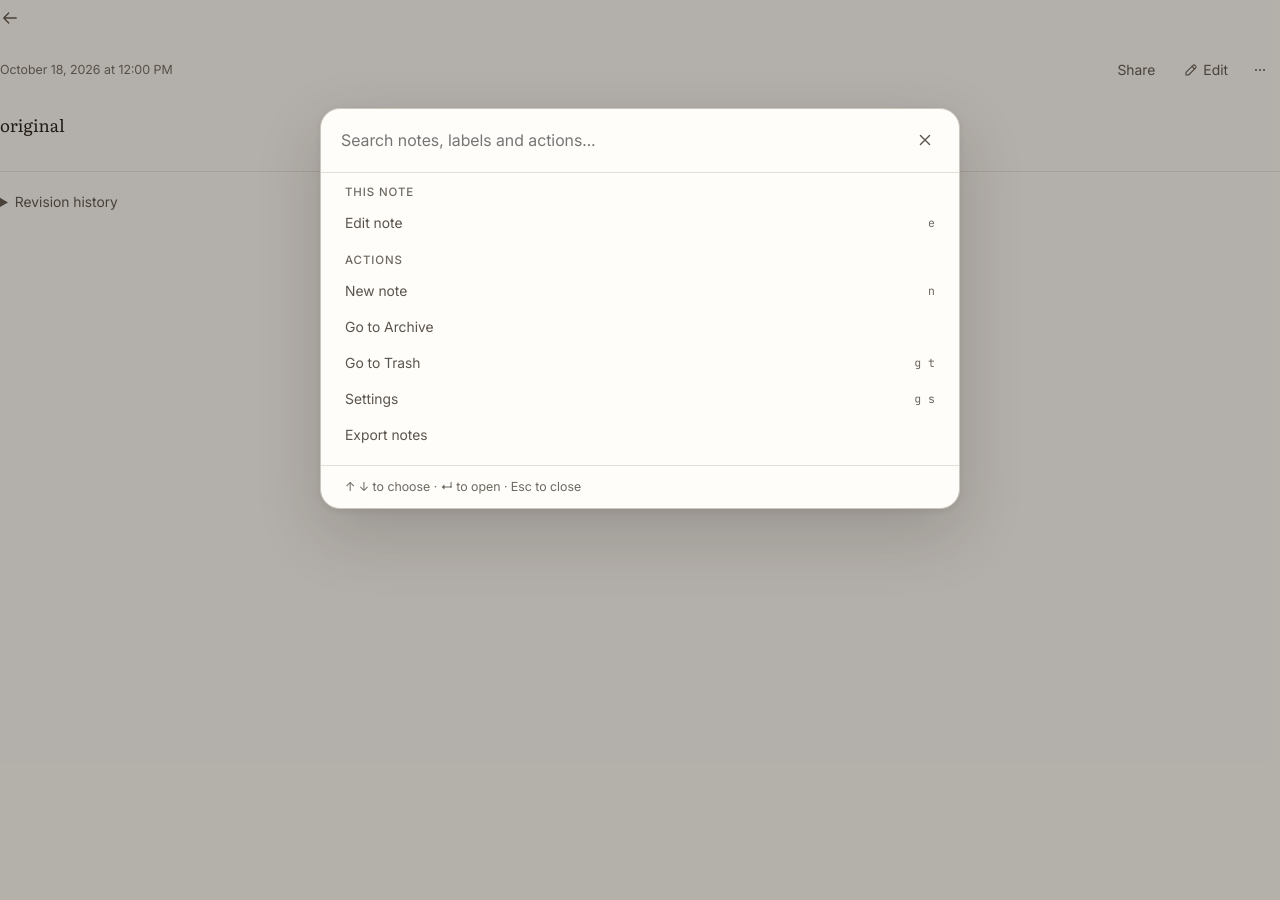
Test: palette Edit opens the note editor when Share is also available
Expected: the button "Share" is shown, [1106,52,1167,88]
What coordinates should you click on to do the following:
click the option "Edit note e"
I would click on:
 (374, 222)
Its box is [333,205,947,241].
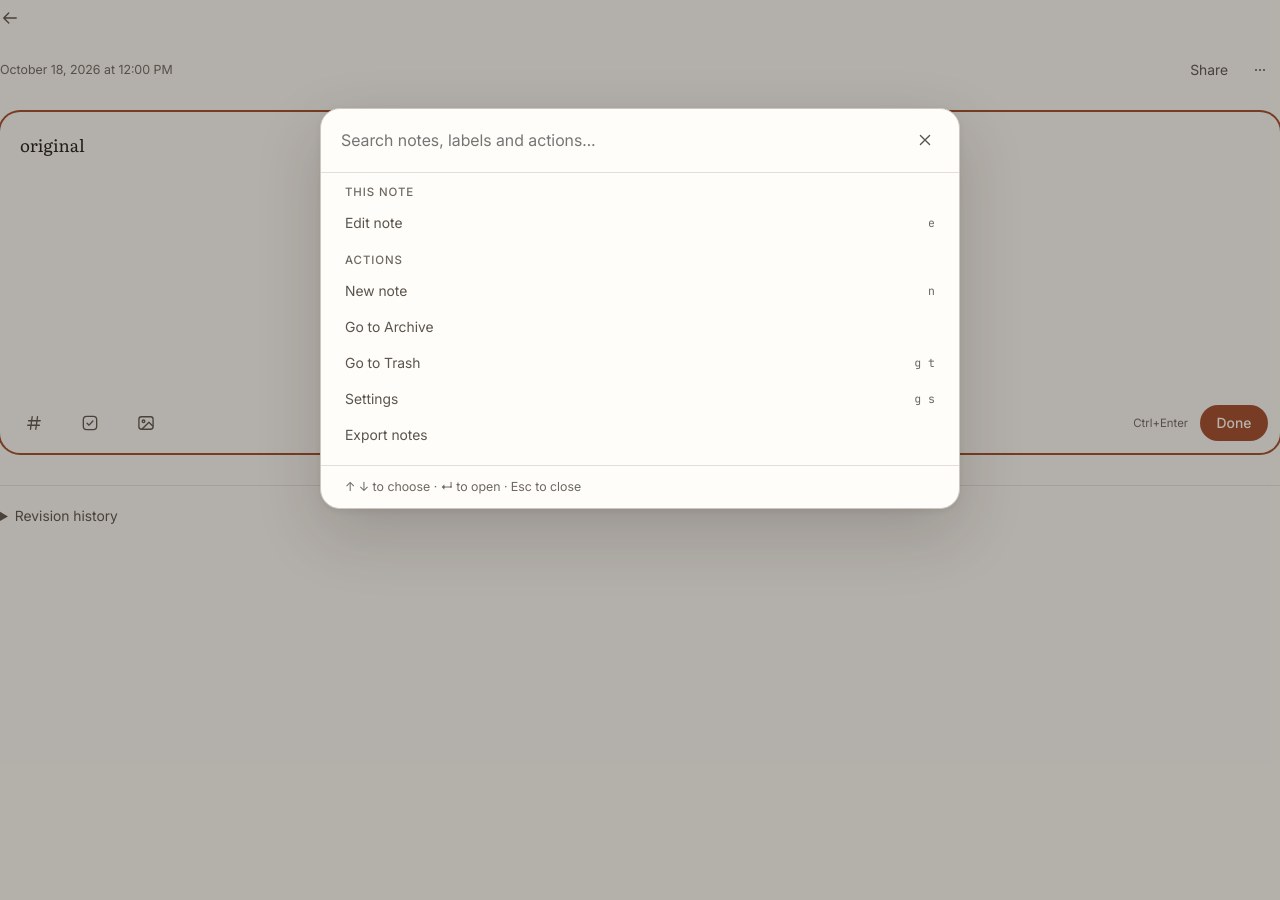
Now the text box named "Edit note" is shown, box [0,112,1279,392]
